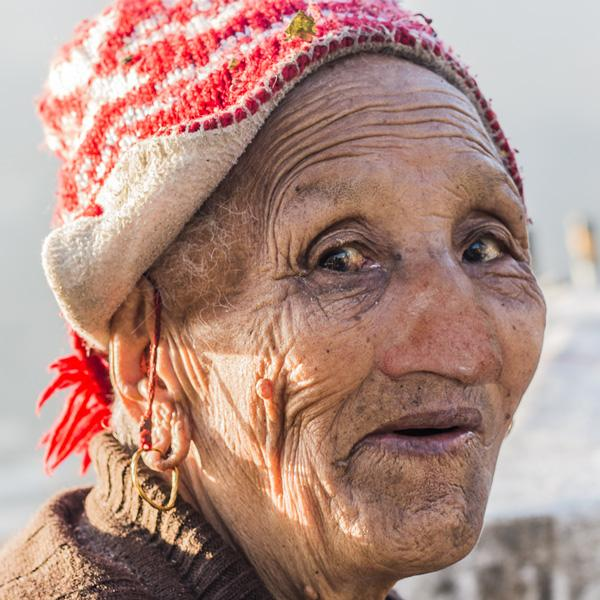Eyes: (299, 216, 388, 296), (444, 206, 526, 288)
